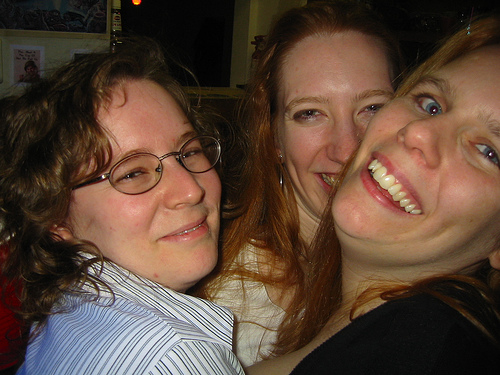without_mask: (39, 67, 229, 287), (336, 58, 500, 298), (258, 8, 392, 223)
